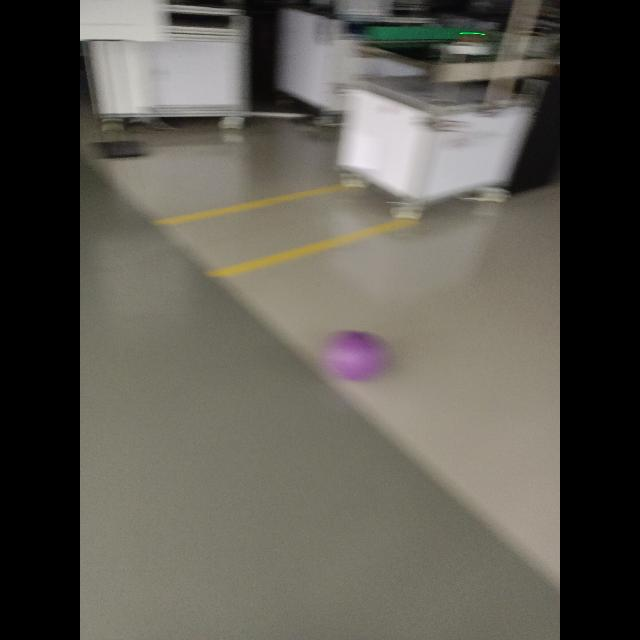P: (322, 330, 390, 382)
